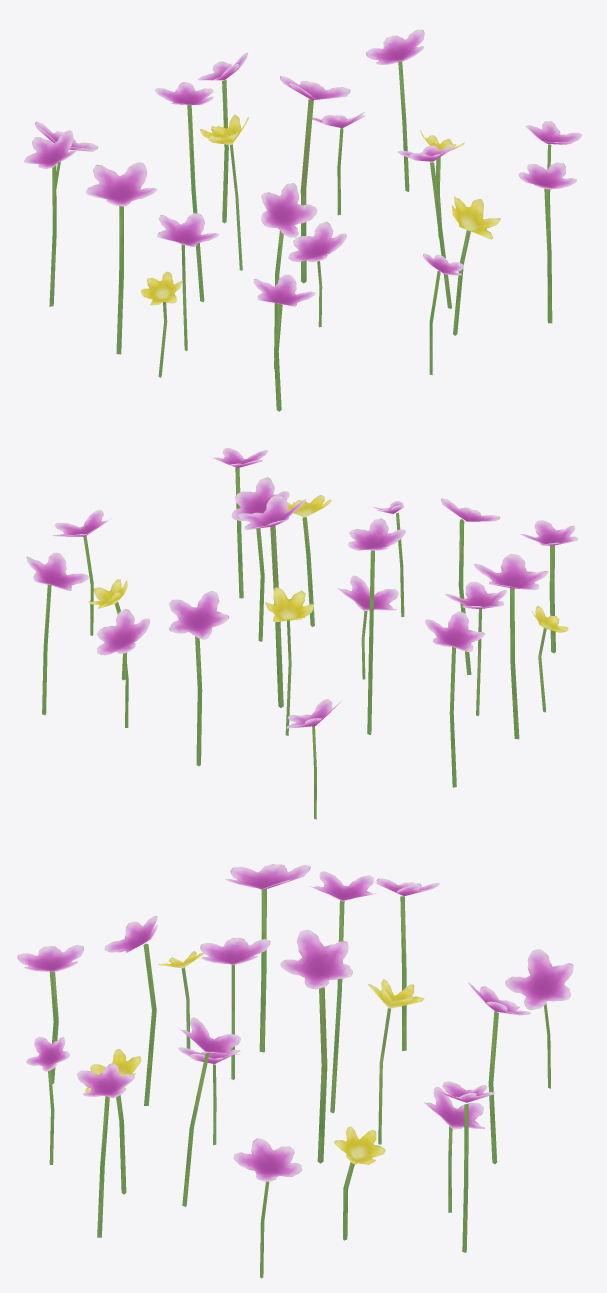
File: P_DaffodilsPink.obj
3 renders of one model, top to bottom at view 1: azimuth 30°, elevation 25°; view 2: azimuth 150°, elevation 25°; view 3: azimuth 270°, elevation 25°, orthographic. The views are drawn at different scales.
Size of the model in its own units: 1.7 by 0.6891 by 1.54.
